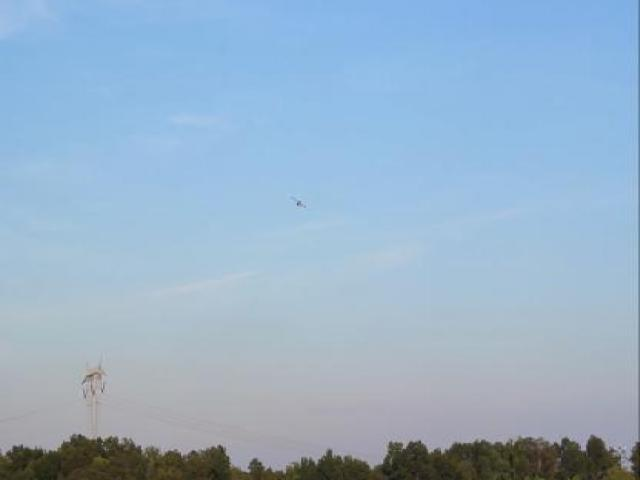uav: (284, 188, 310, 214)
